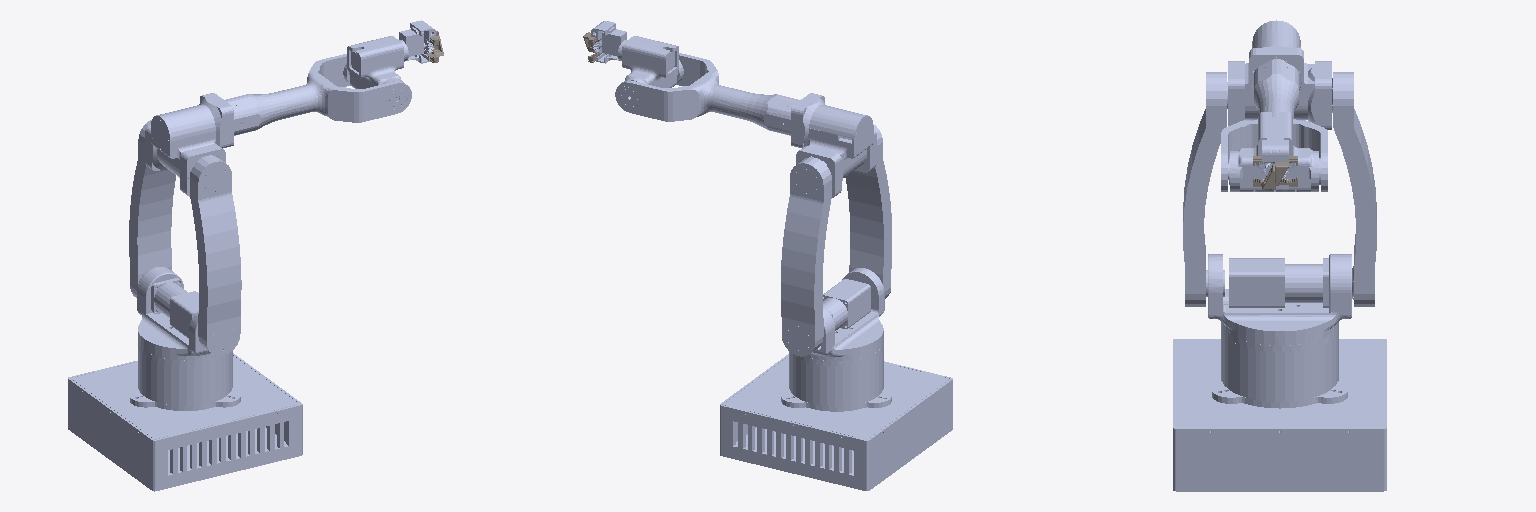
robot.urdf — OVCROBOTV3:
<?xml version="1.0" encoding="utf-8"?>
<!-- This URDF was automatically created by SolidWorks to URDF Exporter! Originally created by [author] ([email redacted]) 
     Commit Version: 1.6.0-1-g15f4949  Build Version: 1.6.7594.29634
     For more information, please see http://wiki.ros.org/sw_urdf_exporter -->
<robot
  name="OVCROBOTV3">
  <link
    name="base_link">
    <inertial>
      <origin
        xyz="-2.0542E-05 -9.7774E-08 0.081463"
        rpy="0 0 0" />
      <mass
        value="3.922" />
      <inertia
        ixx="0.031265"
        ixy="-3.5701E-08"
        ixz="4.2905E-07"
        iyy="0.033484"
        iyz="-4.0783E-11"
        izz="0.060735" />
    </inertial>
    <visual>
      <origin
        xyz="0 0 0"
        rpy="0 0 0" />
      <geometry>
        <mesh
          filename="package://OVCROBOTV3/meshes/base_link.STL" />
      </geometry>
      <material
        name="">
        <color
          rgba="0.79216 0.81961 0.93333 1" />
      </material>
    </visual>
    <collision>
      <origin
        xyz="0 0 0"
        rpy="0 0 0" />
      <geometry>
        <mesh
          filename="package://OVCROBOTV3/meshes/base_link.STL" />
      </geometry>
    </collision>
  </link>
  <link
    name="L1_Link">
    <inertial>
      <origin
        xyz="2.3522E-05 0.0011166 0.041707"
        rpy="0 0 0" />
      <mass
        value="1.1672" />
      <inertia
        ixx="0.0037434"
        ixy="1.0734E-07"
        ixz="1.1956E-07"
        iyy="0.0014543"
        iyz="-8.6014E-05"
        izz="0.0042739" />
    </inertial>
    <visual>
      <origin
        xyz="0 0 0"
        rpy="0 0 0" />
      <geometry>
        <mesh
          filename="package://OVCROBOTV3/meshes/L1_Link.STL" />
      </geometry>
      <material
        name="">
        <color
          rgba="0.79216 0.81961 0.93333 1" />
      </material>
    </visual>
    <collision>
      <origin
        xyz="0 0 0"
        rpy="0 0 0" />
      <geometry>
        <mesh
          filename="package://OVCROBOTV3/meshes/L1_Link.STL" />
      </geometry>
    </collision>
  </link>
  <joint
    name="J1_Joint"
    type="revolute">
    <origin
      xyz="0 0 0.2"
      rpy="0 0 0" />
    <parent
      link="base_link" />
    <child
      link="L1_Link" />
    <axis
      xyz="0 0 1" />
    <limit
      lower="0"
      upper="0"
      effort="0"
      velocity="0" />
  </joint>
  <link
    name="L2_Link">
    <inertial>
      <origin
        xyz="6.8326E-07 0.00070342 0.14996"
        rpy="0 0 0" />
      <mass
        value="1.5568" />
      <inertia
        ixx="0.012134"
        ixy="2.0562E-08"
        ixz="-8.5491E-09"
        iyy="0.012415"
        iyz="-4.3859E-08"
        izz="0.00089953" />
    </inertial>
    <visual>
      <origin
        xyz="0 0 0"
        rpy="0 0 0" />
      <geometry>
        <mesh
          filename="package://OVCROBOTV3/meshes/L2_Link.STL" />
      </geometry>
      <material
        name="">
        <color
          rgba="0.79216 0.81961 0.93333 1" />
      </material>
    </visual>
    <collision>
      <origin
        xyz="0 0 0"
        rpy="0 0 0" />
      <geometry>
        <mesh
          filename="package://OVCROBOTV3/meshes/L2_Link.STL" />
      </geometry>
    </collision>
  </link>
  <joint
    name="J2_Joint"
    type="revolute">
    <origin
      xyz="0 0 0.0605"
      rpy="0 0 0" />
    <parent
      link="L1_Link" />
    <child
      link="L2_Link" />
    <axis
      xyz="0 1 0" />
    <limit
      lower="0"
      upper="0"
      effort="0"
      velocity="0" />
  </joint>
  <link
    name="L3_Link">
    <inertial>
      <origin
        xyz="0.006355 -0.0011984 0.02769"
        rpy="0 0 0" />
      <mass
        value="1.1711" />
      <inertia
        ixx="0.0018937"
        ixy="7.0678E-05"
        ixz="-0.000189"
        iyy="0.0019201"
        iyz="0.00024629"
        izz="0.0017681" />
    </inertial>
    <visual>
      <origin
        xyz="0 0 0"
        rpy="0 0 0" />
      <geometry>
        <mesh
          filename="package://OVCROBOTV3/meshes/L3_Link.STL" />
      </geometry>
      <material
        name="">
        <color
          rgba="0.79216 0.81961 0.93333 1" />
      </material>
    </visual>
    <collision>
      <origin
        xyz="0 0 0"
        rpy="0 0 0" />
      <geometry>
        <mesh
          filename="package://OVCROBOTV3/meshes/L3_Link.STL" />
      </geometry>
    </collision>
  </link>
  <joint
    name="J3_Joint"
    type="revolute">
    <origin
      xyz="0 0 0.3"
      rpy="0 0 0" />
    <parent
      link="L2_Link" />
    <child
      link="L3_Link" />
    <axis
      xyz="0 1 0" />
    <limit
      lower="0"
      upper="0"
      effort="0"
      velocity="0" />
  </joint>
  <link
    name="L4_Link">
    <inertial>
      <origin
        xyz="0.14823 -0.0010669 4.4067E-07"
        rpy="0 0 0" />
      <mass
        value="0.6937" />
      <inertia
        ixx="0.0011376"
        ixy="5.624E-05"
        ixz="8.0216E-09"
        iyy="0.0047992"
        iyz="-5.7319E-10"
        izz="0.0055482" />
    </inertial>
    <visual>
      <origin
        xyz="0 0 0"
        rpy="0 0 0" />
      <geometry>
        <mesh
          filename="package://OVCROBOTV3/meshes/L4_Link.STL" />
      </geometry>
      <material
        name="">
        <color
          rgba="0.79216 0.81961 0.93333 1" />
      </material>
    </visual>
    <collision>
      <origin
        xyz="0 0 0"
        rpy="0 0 0" />
      <geometry>
        <mesh
          filename="package://OVCROBOTV3/meshes/L4_Link.STL" />
      </geometry>
    </collision>
  </link>
  <joint
    name="J4_Joint"
    type="revolute">
    <origin
      xyz="0.072 -0.005 0.06"
      rpy="0 0 0" />
    <parent
      link="L3_Link" />
    <child
      link="L4_Link" />
    <axis
      xyz="-1 0 0" />
    <limit
      lower="0"
      upper="0"
      effort="0"
      velocity="0" />
  </joint>
  <link
    name="L5_Link">
    <inertial>
      <origin
        xyz="0.000457569668641855 -0.00310499642257334 0.0208773928792411"
        rpy="0 0 0" />
      <mass
        value="0.516300897052282" />
      <inertia
        ixx="0.000587838109751269"
        ixy="-8.72971799987048E-07"
        ixz="-8.90731315791099E-06"
        iyy="0.000349081110810097"
        iyz="-1.42771126532025E-05"
        izz="0.00058883399651076" />
    </inertial>
    <visual>
      <origin
        xyz="0 0 0"
        rpy="0 0 0" />
      <geometry>
        <mesh
          filename="package://OVCROBOTV3/meshes/L5_Link.STL" />
      </geometry>
      <material
        name="">
        <color
          rgba="0.792156862745098 0.819607843137255 0.933333333333333 1" />
      </material>
    </visual>
    <collision>
      <origin
        xyz="0 0 0"
        rpy="0 0 0" />
      <geometry>
        <mesh
          filename="package://OVCROBOTV3/meshes/L5_Link.STL" />
      </geometry>
    </collision>
  </link>
  <joint
    name="J5_Joint"
    type="revolute">
    <origin
      xyz="0.317 0 0"
      rpy="0 0 0" />
    <parent
      link="L4_Link" />
    <child
      link="L5_Link" />
    <axis
      xyz="0 -1 0" />
    <limit
      lower="0"
      upper="0"
      effort="0"
      velocity="0" />
  </joint>
  <link
    name="L6_Link">
    <inertial>
      <origin
        xyz="0.0467501738999265 -3.84811913245464E-06 0.00794346527134304"
        rpy="0 0 0" />
      <mass
        value="0.0731514753185809" />
      <inertia
        ixx="2.44066434189184E-05"
        ixy="-2.28650180909553E-09"
        ixz="-4.23649466602036E-06"
        iyy="3.69136363011199E-05"
        iyz="-1.20029027396226E-10"
        izz="2.27126427291925E-05" />
    </inertial>
    <visual>
      <origin
        xyz="0 0 0"
        rpy="0 0 0" />
      <geometry>
        <mesh
          filename="package://OVCROBOTV3/meshes/L6_Link.STL" />
      </geometry>
      <material
        name="">
        <color
          rgba="0.792156862745098 0.819607843137255 0.933333333333333 1" />
      </material>
    </visual>
    <collision>
      <origin
        xyz="0 0 0"
        rpy="0 0 0" />
      <geometry>
        <mesh
          filename="package://OVCROBOTV3/meshes/L6_Link.STL" />
      </geometry>
    </collision>
  </link>
  <joint
    name="J6_Joint"
    type="revolute">
    <origin
      xyz="0.032 -0.0015 0.05"
      rpy="0 0 0" />
    <parent
      link="L5_Link" />
    <child
      link="L6_Link" />
    <axis
      xyz="-1 0 0" />
    <limit
      lower="0"
      upper="0"
      effort="0"
      velocity="0" />
  </joint>
  <link
    name="L7_Link">
    <inertial>
      <origin
        xyz="0.036479 0.010378 -0.0033069"
        rpy="0 0 0" />
      <mass
        value="0.010354" />
      <inertia
        ixx="1.6581E-06"
        ixy="-4.7347E-08"
        ixz="2.3376E-07"
        iyy="2.8867E-06"
        iyz="4.2874E-07"
        izz="2.8973E-06" />
    </inertial>
    <visual>
      <origin
        xyz="0 0 0"
        rpy="0 0 0" />
      <geometry>
        <mesh
          filename="package://OVCROBOTV3/meshes/L7_Link.STL" />
      </geometry>
      <material
        name="">
        <color
          rgba="0.64314 0.61569 0.6 1" />
      </material>
    </visual>
    <collision>
      <origin
        xyz="0 0 0"
        rpy="0 0 0" />
      <geometry>
        <mesh
          filename="package://OVCROBOTV3/meshes/L7_Link.STL" />
      </geometry>
    </collision>
  </link>
  <joint
    name="J7_Joint"
    type="prismatic">
    <origin
      xyz="0.07883 -0.033051 0.0225"
      rpy="-1.5708 0 1.5708" />
    <parent
      link="L6_Link" />
    <child
      link="L7_Link" />
    <axis
      xyz="1 0 0" />
    <limit
      lower="0"
      upper="0"
      effort="0"
      velocity="0" />
  </joint>
  <link
    name="L8_Link">
    <inertial>
      <origin
        xyz="0.0364788070990304 0.0103777834733058 -0.00330694539119258"
        rpy="0 0 0" />
      <mass
        value="0.0103535967073897" />
      <inertia
        ixx="1.65812257714215E-06"
        ixy="-4.73469728497305E-08"
        ixz="2.33763865274845E-07"
        iyy="2.88673763683146E-06"
        iyz="4.28743016977709E-07"
        izz="2.89730942578625E-06" />
    </inertial>
    <visual>
      <origin
        xyz="0 0 0"
        rpy="0 0 0" />
      <geometry>
        <mesh
          filename="package://OVCROBOTV3/meshes/L8_Link.STL" />
      </geometry>
      <material
        name="">
        <color
          rgba="0.643137254901961 0.615686274509804 0.6 1" />
      </material>
    </visual>
    <collision>
      <origin
        xyz="0 0 0"
        rpy="0 0 0" />
      <geometry>
        <mesh
          filename="package://OVCROBOTV3/meshes/L8_Link.STL" />
      </geometry>
    </collision>
  </link>
  <joint
    name="J8_Joint"
    type="prismatic">
    <origin
      xyz="0.07883 0.033 -0.0225"
      rpy="1.5708 0 -1.5708" />
    <parent
      link="L6_Link" />
    <child
      link="L8_Link" />
    <axis
      xyz="-1 0 0" />
    <limit
      lower="0"
      upper="0"
      effort="0"
      velocity="0" />
  </joint>
</robot>

--- What the picture shows (computed from the rendered views, not written in the file) ---
The picture shows the robot from 3 angles, left to right: view 1: azimuth 30°, elevation 25°; view 2: azimuth 150°, elevation 25°; view 3: azimuth 270°, elevation 25°; orthographic projection.
Model OVCROBOTV3 with 9 links and 8 joints (6 revolute, 2 prismatic), rooted at base_link, posed every joint at zero.
Visible links, largest first — view 1: base_link, L2_Link, L4_Link, L3_Link, L1_Link, L5_Link, L6_Link; view 2: base_link, L2_Link, L4_Link, L3_Link, L1_Link, L5_Link, L6_Link; view 3: base_link, L1_Link, L2_Link, L3_Link, L4_Link, L5_Link, L6_Link.
Boxes of the visible links, box(x1,y1,x2,y2) form: base_link: box(68, 344, 302, 491); L2_Link: box(129, 120, 241, 355); L4_Link: box(225, 54, 411, 135); L3_Link: box(145, 93, 233, 196); L1_Link: box(137, 267, 216, 360); L5_Link: box(343, 36, 403, 88); L6_Link: box(399, 20, 435, 63); base_link: box(720, 343, 952, 490); L2_Link: box(781, 124, 891, 356); L4_Link: box(615, 53, 799, 135); L3_Link: box(791, 93, 876, 197); L1_Link: box(806, 268, 884, 360); L5_Link: box(622, 36, 683, 87); L6_Link: box(591, 21, 626, 63); base_link: box(1173, 323, 1386, 491); L1_Link: box(1208, 254, 1351, 345); L2_Link: box(1183, 72, 1376, 306); L3_Link: box(1228, 20, 1331, 129); L4_Link: box(1221, 59, 1327, 191); L5_Link: box(1229, 112, 1320, 191); L6_Link: box(1262, 137, 1288, 188).
Size in the robot's own frame: 0.6748 by 0.31 by 0.7105 metres.
Meshes: 9 distinct files referenced, 9 mesh visuals loaded (9 binary STL).